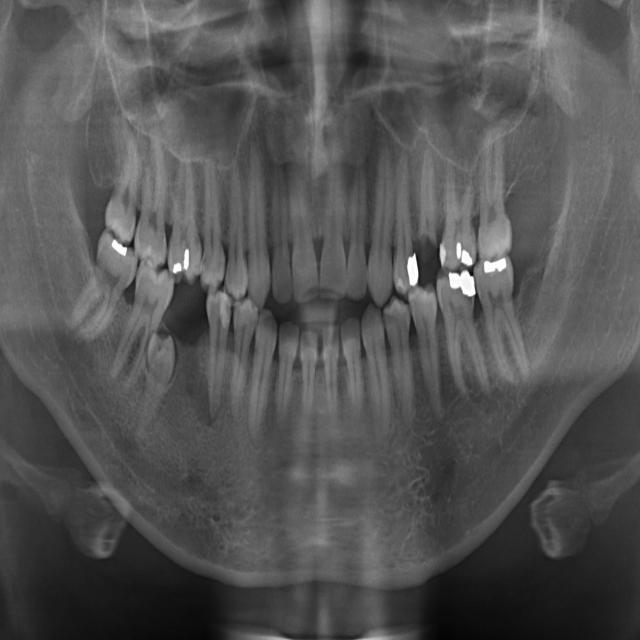3M ESPE Implant: (104, 132, 139, 246)
AGS Medikal Implant: (470, 254, 532, 389)
AMerOss Implant: (432, 261, 493, 399)
Amalgam filling: (133, 138, 168, 267)
Anthogyr Implant: (407, 281, 459, 424)
Bicon Implant: (381, 292, 427, 427)
BioHorizons Implant: (358, 303, 401, 445)
BioLife Implant: (339, 316, 367, 421)
Biomet 3i Implant: (321, 324, 339, 429)
Blue Sky Bio Implant: (299, 332, 319, 424)
Camlog Implant: (276, 322, 299, 430)
Caries: (346, 146, 371, 301)
Composite filling: (239, 308, 280, 454)
Cowellmedi Implant: (219, 296, 260, 425)
Crown: (205, 290, 235, 422)
Dentatus Implant: (130, 330, 183, 442)
Dentis Implant: (106, 260, 180, 395)
Dentium Implant: (63, 225, 148, 350)
Euroteknika Implant: (200, 154, 230, 294)
Filling: (224, 158, 253, 299)
Frontier Implant: (248, 128, 271, 308)
Hiossen Implant: (366, 137, 393, 308)
Implant: (287, 162, 319, 304)
Implant Direct: (269, 148, 292, 306)
Keystone Dental Implant: (320, 149, 347, 299)
MIS Implant: (387, 147, 420, 296)
Mandible: (415, 144, 437, 247)
Maxilla: (438, 153, 477, 269)
Megagen Implant: (478, 129, 512, 260)
